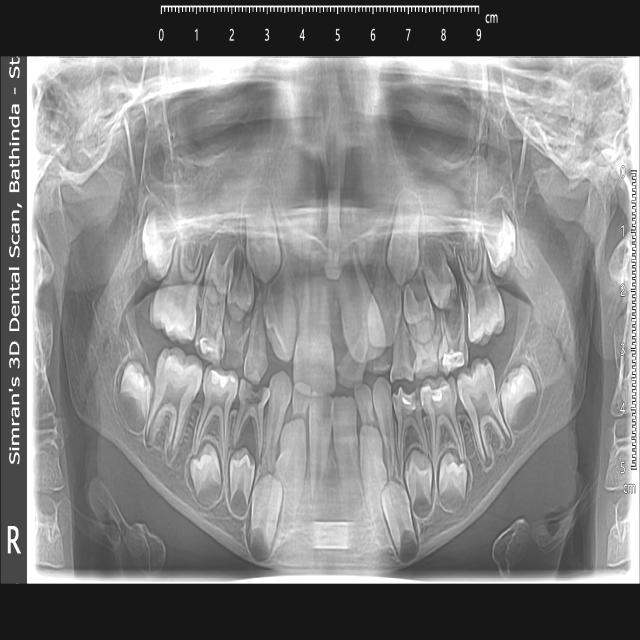Caries: (238, 383, 274, 402)
Filling: (424, 380, 457, 412), (440, 340, 466, 375), (197, 326, 221, 362), (394, 387, 421, 416)
